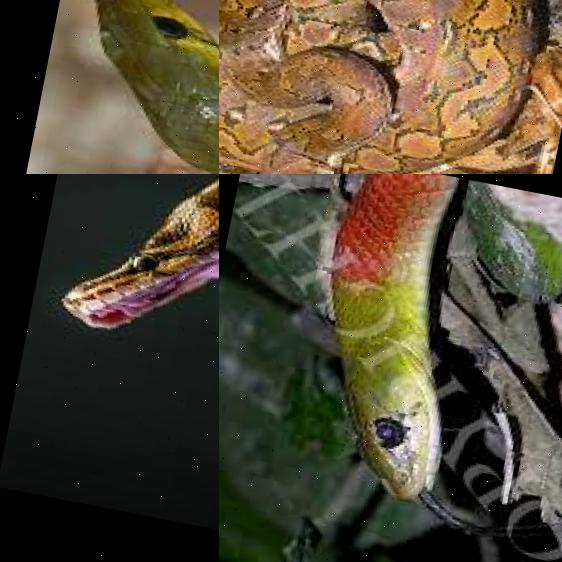snake: (252, 174, 520, 515), (219, 0, 562, 174), (0, 0, 219, 174), (54, 174, 219, 399)
